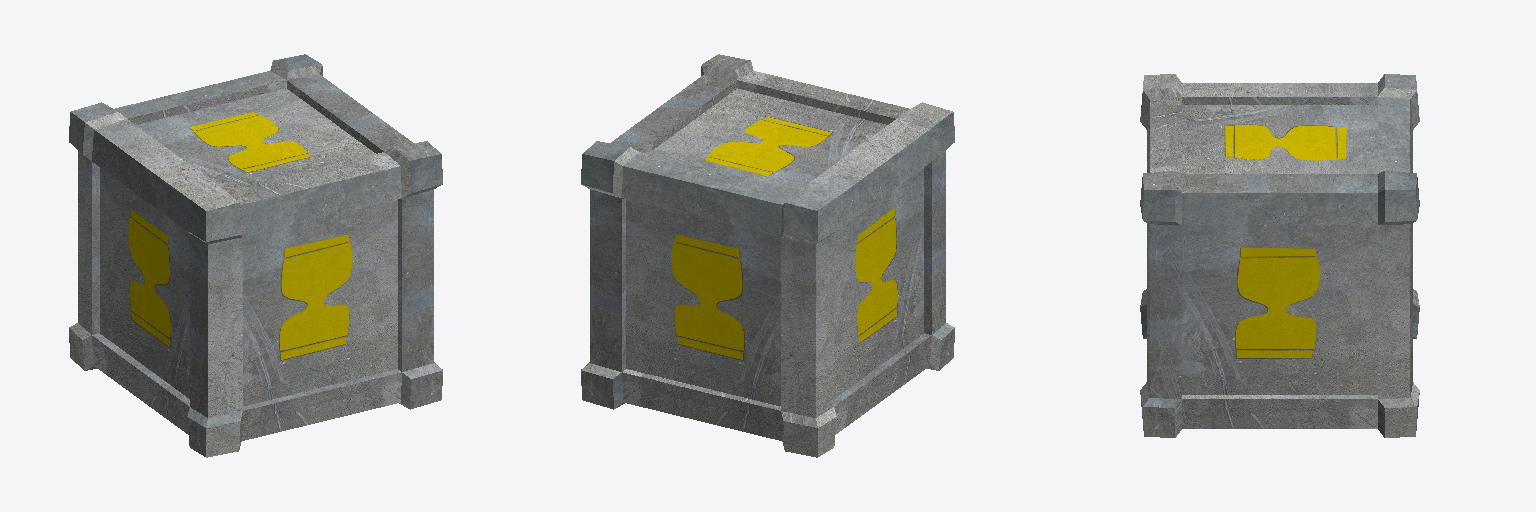
The picture shows the model from 3 angles: view 1: azimuth 30°, elevation 25°; view 2: azimuth 150°, elevation 25°; view 3: azimuth 270°, elevation 25°; orthographic projection.
Bounding box in the file's own units: 2.25 × 2.25 × 2.26.
2 materials, 1 textured.